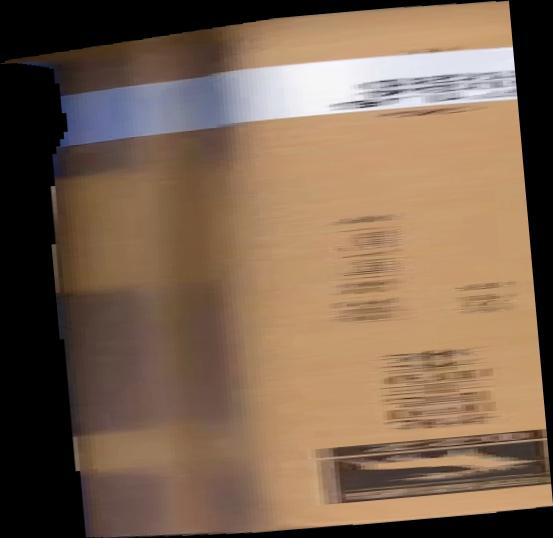reverse: (1, 1, 553, 538)
